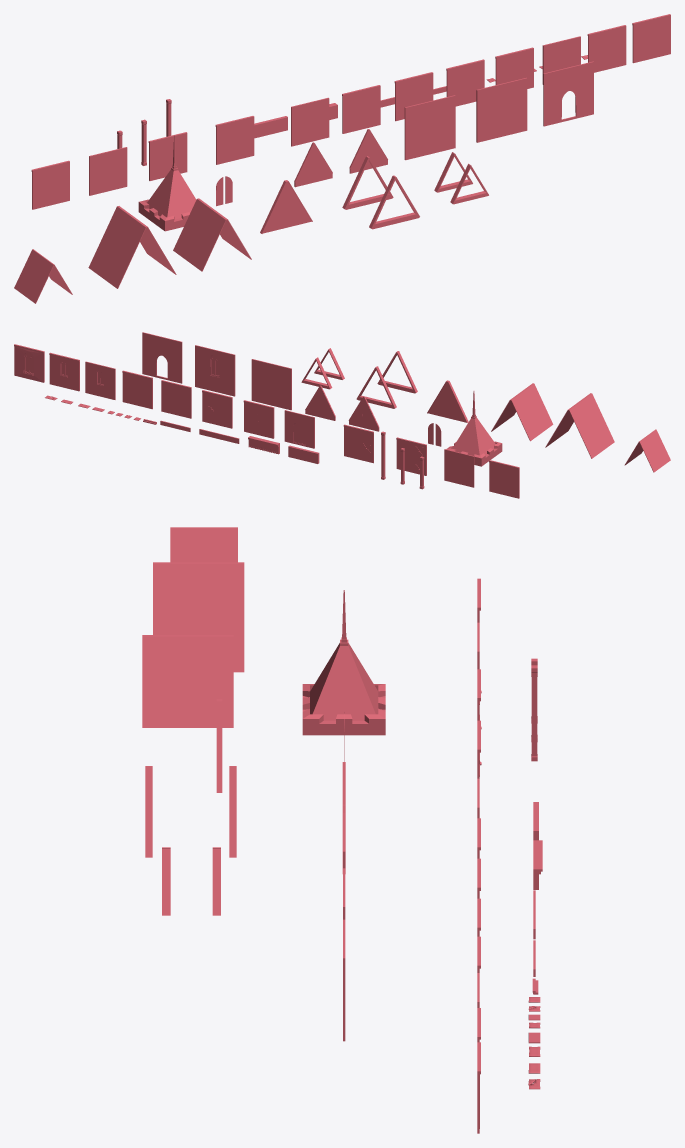
The model's file is Total Assets2.fbx_Church.fbx.
3 views of the same model, one above another, from view 1: azimuth 30°, elevation 25°; view 2: azimuth 150°, elevation 25°; view 3: azimuth 270°, elevation 25° (orthographic). The views are drawn at different scales.
Visible parts, largest first — view 1: roof_002, Church_wall_big, Church_wall_window_big, roof_001, Church_wall_door_big, Church_tower, Church_wall_007, Church_wall_002, Church_wall_window_001, Church_wall_door, Church_wall_006, Church_wall_005 (+13 smaller); view 2: roof_002, Church_wall_big, Church_wall_window_big, roof_001, Church_wall_door_big, Church_tower, Church_wall_door, Church_wall_004, Church_wall_001, Church_wall_window_002, Church_wall_006, Church_wall_003 (+14 smaller); view 3: roof_001, roof_002, Church_tower, roof_003, roof, roof_004.
Boxes of the visible parts, box(x1,y1,x2,y2) form: roof_002: box(88, 206, 176, 288); Church_wall_big: box(404, 95, 455, 160); Church_wall_window_big: box(476, 77, 527, 142); roof_001: box(173, 198, 251, 271); Church_wall_door_big: box(543, 61, 593, 126); Church_tower: box(138, 135, 196, 231); Church_wall_007: box(215, 116, 254, 164); Church_wall_002: box(342, 85, 380, 133); Church_wall_window_001: box(632, 14, 670, 63); Church_wall_door: box(291, 97, 329, 146); Church_wall_006: box(89, 147, 127, 195); Church_wall_005: box(31, 160, 69, 209); roof_002: box(545, 393, 614, 458); Church_wall_big: box(251, 359, 291, 410); Church_wall_window_big: box(195, 345, 235, 396); roof_001: box(491, 383, 553, 441); Church_wall_door_big: box(142, 332, 182, 383); Church_tower: box(446, 391, 502, 466); Church_wall_door: box(284, 410, 314, 448); Church_wall_004: box(161, 380, 191, 418); Church_wall_001: box(122, 370, 152, 409); Church_wall_window_002: box(85, 361, 115, 399); Church_wall_006: box(444, 449, 474, 487); Church_wall_003: box(202, 390, 232, 428); roof_001: box(142, 635, 233, 727); roof_002: box(153, 562, 244, 672); Church_tower: box(302, 590, 385, 735); roof_003: box(170, 527, 237, 562); roof: box(145, 766, 236, 857); roof_004: box(162, 847, 220, 915).
Size of the model in its own units: 11703 by 1242 by 3504.
